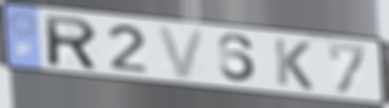2: (105, 23, 150, 75)
6: (217, 32, 259, 84)
7: (327, 41, 368, 96)
K: (272, 36, 316, 92)
R: (42, 13, 100, 72)
V: (155, 24, 209, 81)
